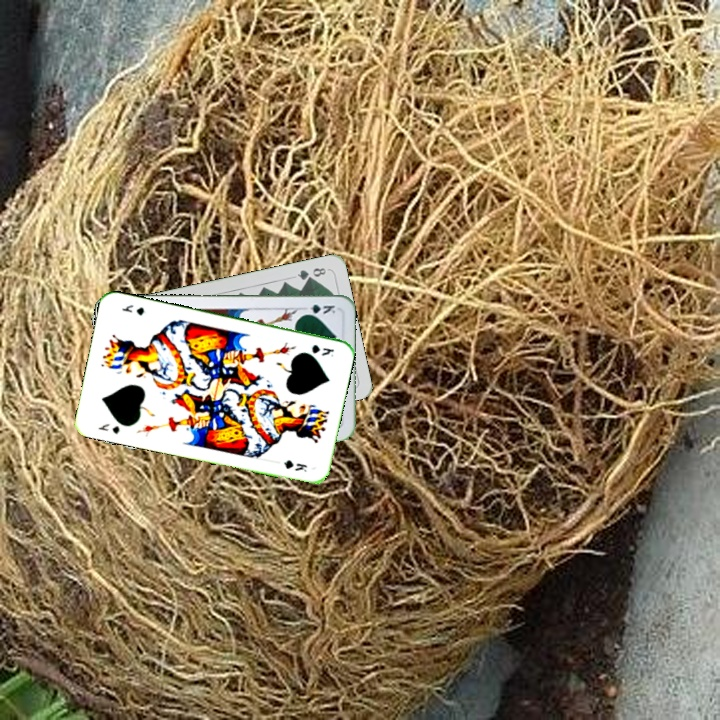G8: (293, 264, 329, 283)
GK: (299, 301, 338, 317), (308, 340, 337, 359), (94, 420, 122, 437)
